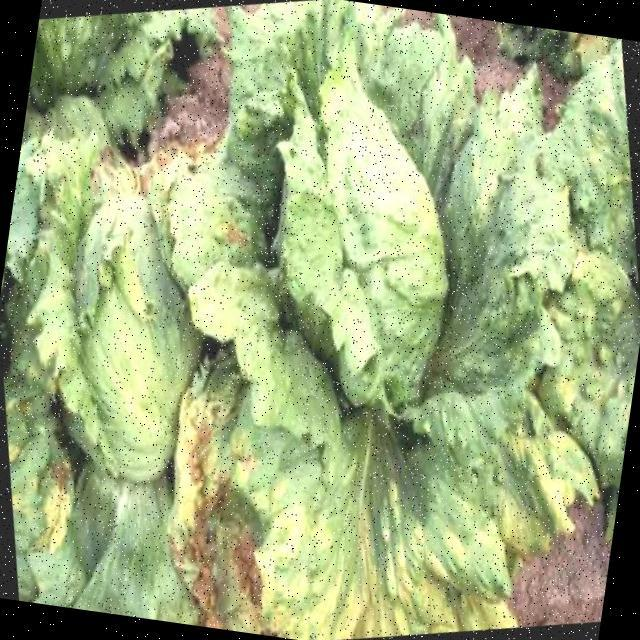Downy_Mildew: (0, 153, 383, 640)
